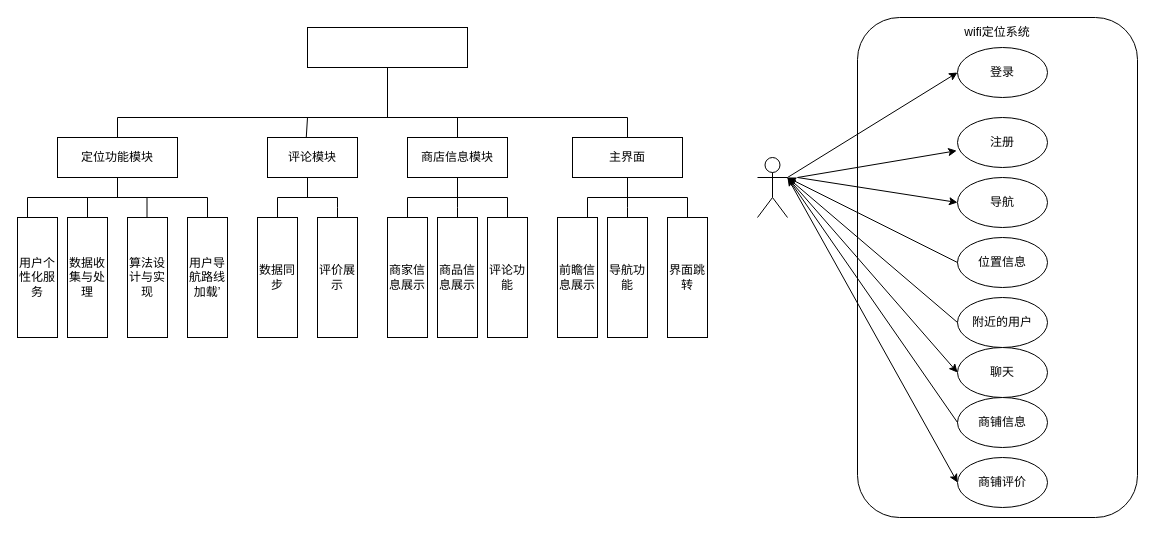
The diagram is 1155 pixels wide and 535 high, and some of its shapes have lost their labels. Here are the shapes that lost their labels. From the top down, the centre of each, then its label:
At point 387,47: "系统功能结构图".
At point 772,187: "用户".
